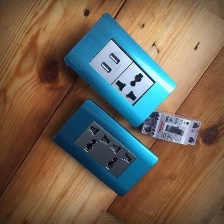three_eye_plug: (61, 10, 178, 131), (49, 97, 161, 200)
